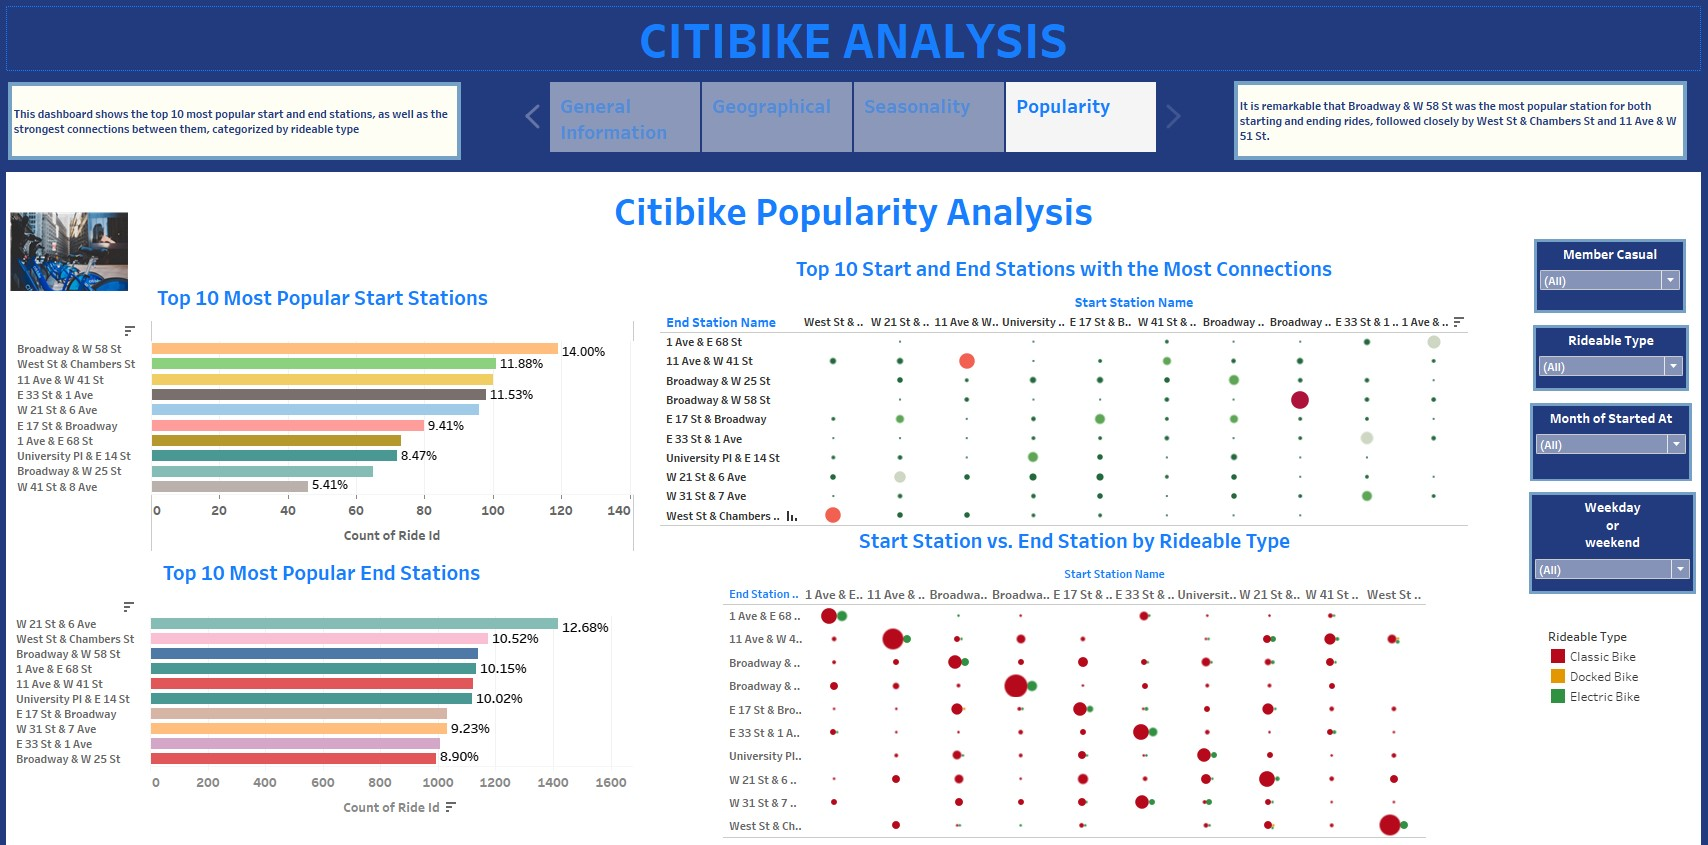

What the dashboard file says about the page in this screenshot:
{"tool":"tableau","page":{"name":"Citibike Popularity ","canvas":[1000,1000],"units":"permille","ordinal":1},"visuals":[{"type":"title","box":[4.7,9.3,990.6,88.8]},{"type":"image","param":"C:/Users/Isbelis/Documents/Bootcamp/Homework/Tableau-challenge/CITIBIKE-TABLEAU-","box":[2.3,59.6,83,116.8]},{"type":"filter","title":"TOP 10 END END STATION","param":"[federated.0w41ppg0dqevix11k8kzt1k9ii9s].[none:member_casual:nk]","box":[901.3,99.3,90,109.8]},{"type":"worksheet","title":"TOP 10 START END STATION BY COUNT TRIP","mark":"Circle","rows":["end_station_name"],"cols":["start_station_name"],"box":[385.6,115.7,476.9,410.1]},{"type":"worksheet","title":"TOP 10 START STATION ","mark":"Automatic","rows":["start_station_name"],"cols":["ride_id"],"box":[2.9,158.9,367.5,405.4]},{"type":"filter","title":"TOP 10 END END STATION","param":"[federated.0w41ppg0dqevix11k8kzt1k9ii9s].[none:rideable_type:nk]","box":[900.7,226.6,92.3,98.1]},{"type":"filter","title":"TOP 10 END END STATION","param":"[federated.0w41ppg0dqevix11k8kzt1k9ii9s].[mn:started_at:ok]","box":[899,342.3,95.8,116.8]},{"type":"filter","title":"TOP 10 END END STATION","param":"[federated.0w41ppg0dqevix11k8kzt1k9ii9s].[none:Calculation_2480639024720158736:n","box":[898.4,475.5,98.7,150.7]},{"type":"worksheet","title":"start station END STATION vs weekEND","mark":"Circle","rows":["end_station_name"],"cols":["start_station_name"],"box":[423.1,519.9,414.9,469.6]},{"type":"worksheet","title":"TOP 10 END END STATION","mark":"Bar","rows":["end_station_name"],"cols":["ride_id"],"box":[2.3,566.6,367.5,399.5]},{"type":"legend","title":"start station END STATION vs weekEND","param":"[federated.0w41ppg0dqevix11k8kzt1k9ii9s].[none:rideable_type:nk]","box":[909.9,676.4,81.9,212.6]}]}

Visuals, with their boxes on the dashboard's canvas, which has no fixed pixel size, in thousandths of its width and height (x1, y1, x2, y2). These are canvas units, not pixel positions in the 1708x845 screenshot, which may show the page scaled, cropped or inside an application window:
title: (x1=5, y1=9, x2=995, y2=98)
image: (x1=2, y1=60, x2=85, y2=176)
"TOP 10 END END STATION" filter: (x1=901, y1=99, x2=991, y2=209)
"TOP 10 START END STATION BY COUNT TRIP" worksheet (Circle marks): (x1=386, y1=116, x2=862, y2=526)
"TOP 10 START STATION " worksheet: (x1=3, y1=159, x2=370, y2=564)
"TOP 10 END END STATION" filter: (x1=901, y1=227, x2=993, y2=325)
"TOP 10 END END STATION" filter: (x1=899, y1=342, x2=995, y2=459)
"TOP 10 END END STATION" filter: (x1=898, y1=476, x2=997, y2=626)
"start station END STATION vs weekEND" worksheet (Circle marks): (x1=423, y1=520, x2=838, y2=990)
"TOP 10 END END STATION" worksheet (Bar marks): (x1=2, y1=567, x2=370, y2=966)
"start station END STATION vs weekEND" legend: (x1=910, y1=676, x2=992, y2=889)
